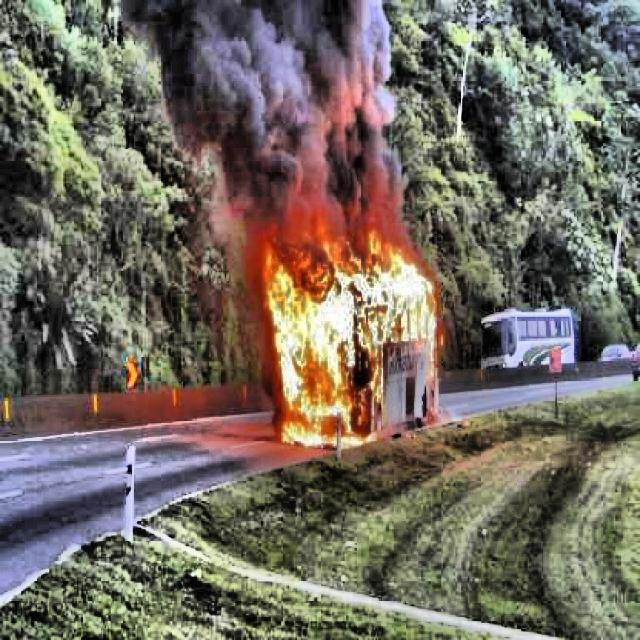Fire: (268, 212, 434, 443)
